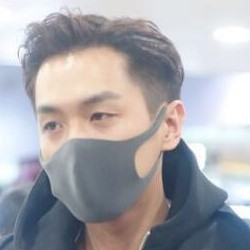mask: (40, 132, 148, 224)
